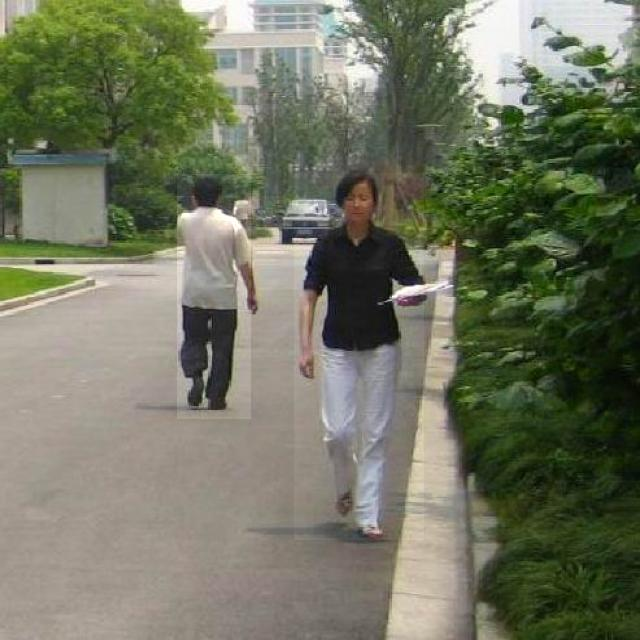with scooter: (294, 173, 424, 540), (178, 174, 252, 419)
